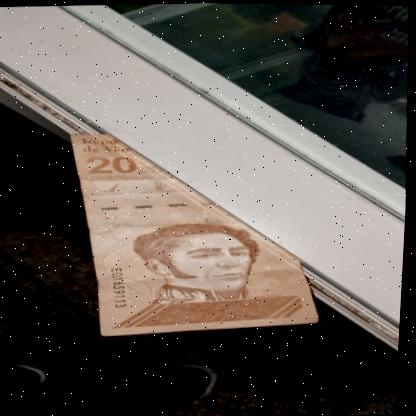twenty-front-vef: (63, 123, 330, 339)
